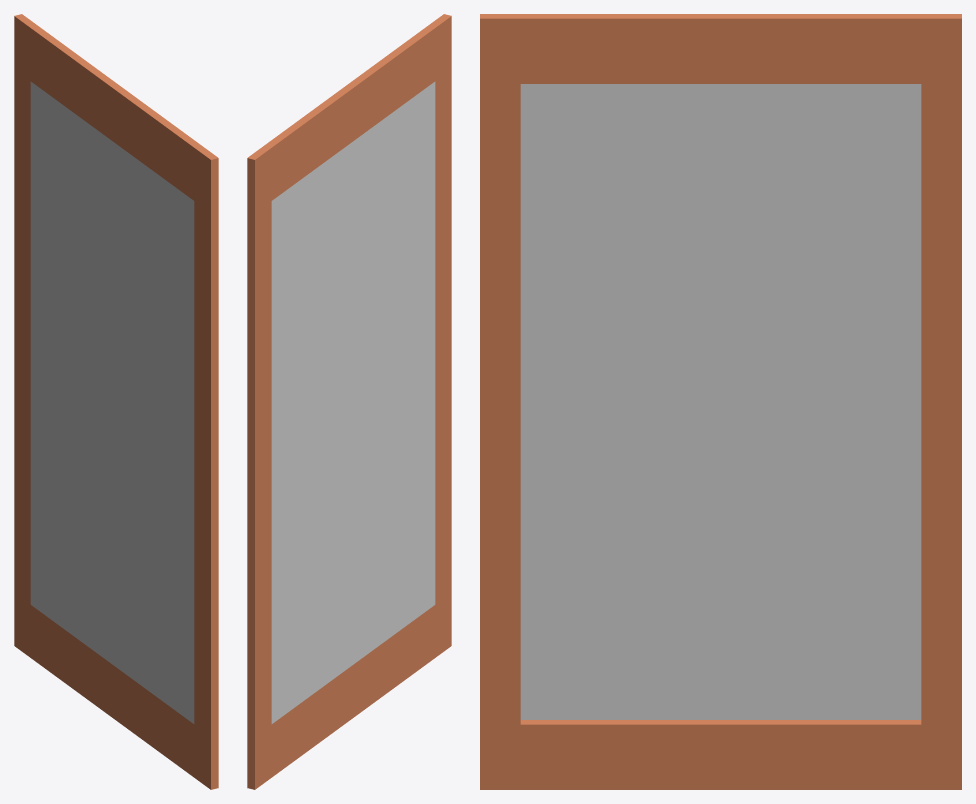
Rendered from Frame3.fbx.
The picture shows the model from 3 angles, left to right: view 1: azimuth 30°, elevation 25°; view 2: azimuth 150°, elevation 25°; view 3: azimuth 270°, elevation 25°; orthographic projection. The views are drawn at different scales.
Visible parts, largest first — view 1: Frame3; view 2: Frame3; view 3: Frame3.
Part boxes in pixels (x1,y1,x2,y2): Frame3: [14, 14, 218, 789]; Frame3: [247, 14, 451, 789]; Frame3: [480, 14, 961, 789].
Bounding box in the file's own units: 2 × 3.53 × 0.0459.
